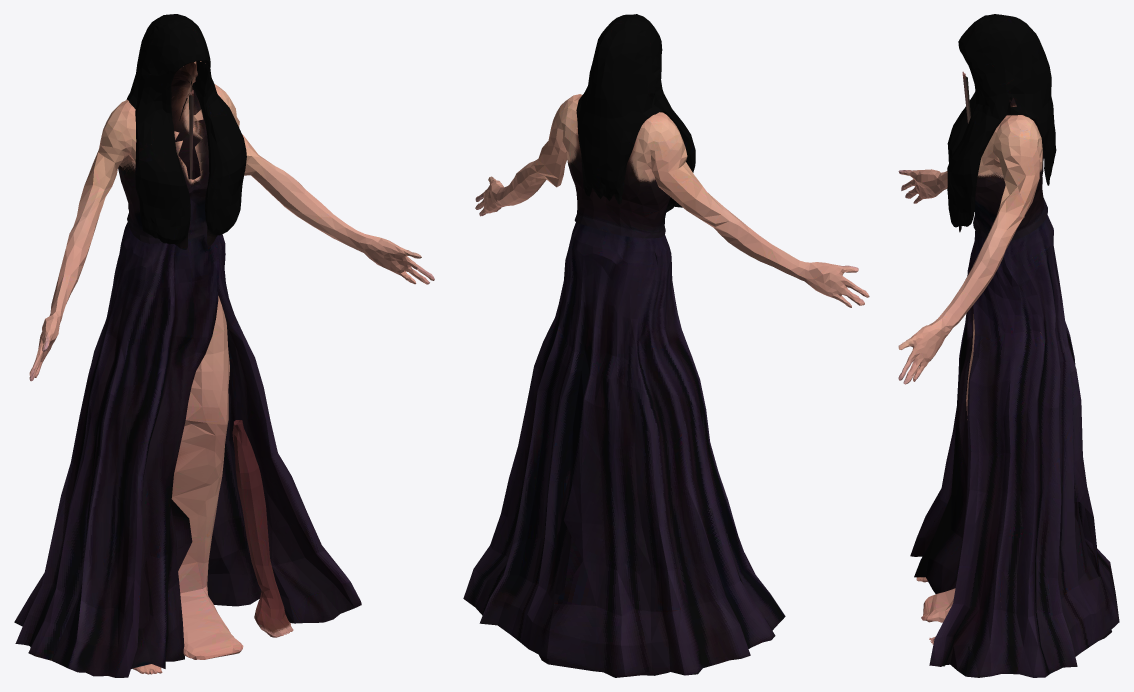
File: ewm_t2fallenangel_outfit.glb
The picture shows the model from 3 angles, left to right: view 1: azimuth 30°, elevation 25°; view 2: azimuth 150°, elevation 25°; view 3: azimuth 270°, elevation 25°; orthographic projection. The views are drawn at different scales.
Parts seen in each view (by area): view 1: ewm_t2fallenangel_outfit; view 2: ewm_t2fallenangel_outfit; view 3: ewm_t2fallenangel_outfit.
Part boxes in pixels (box(x1,y1,x2,y2)): ewm_t2fallenangel_outfit: box(14, 14, 434, 677); ewm_t2fallenangel_outfit: box(463, 14, 869, 677); ewm_t2fallenangel_outfit: box(898, 14, 1119, 677).
Bounding box in the file's own units: 1.29 × 1.91 × 0.6297.
1 material, 1 textured.
